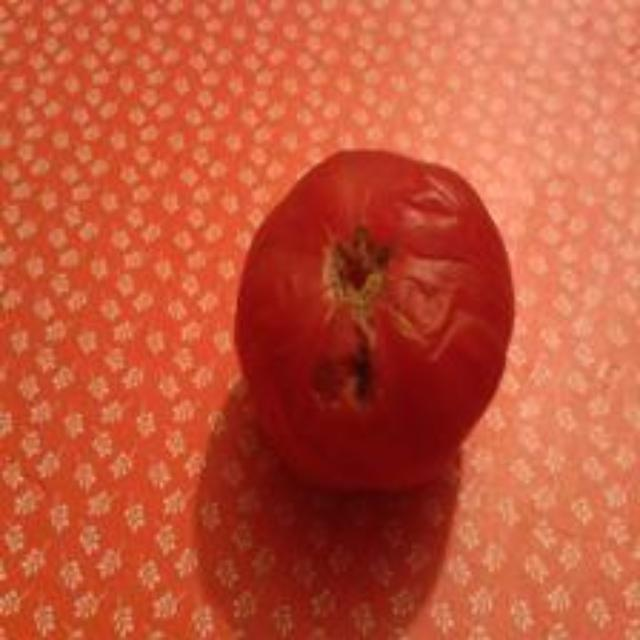defect: (233, 141, 521, 489)
